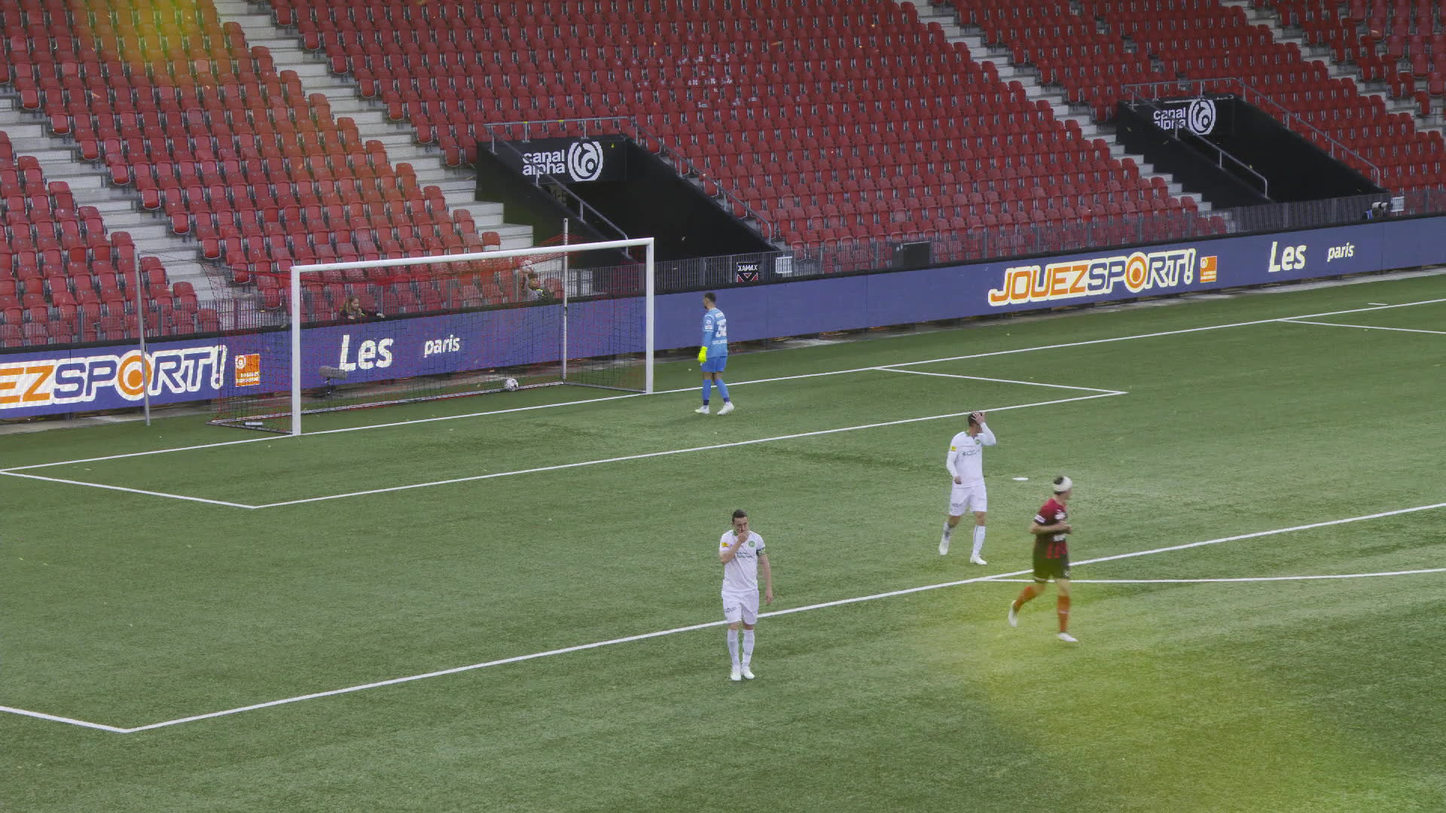ball: (505, 378, 517, 391)
player: (1015, 481, 1072, 641), (718, 512, 770, 684), (944, 409, 995, 563), (691, 291, 731, 414)
